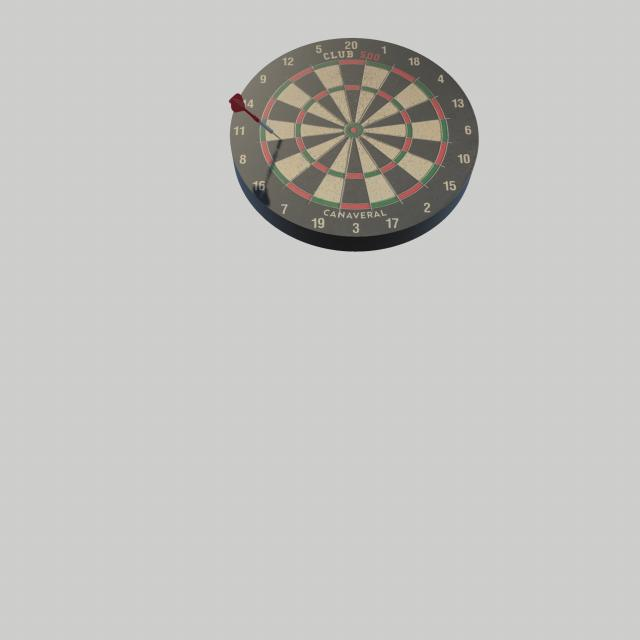metal: (257, 119, 281, 140)
plastic: (228, 93, 260, 122)
